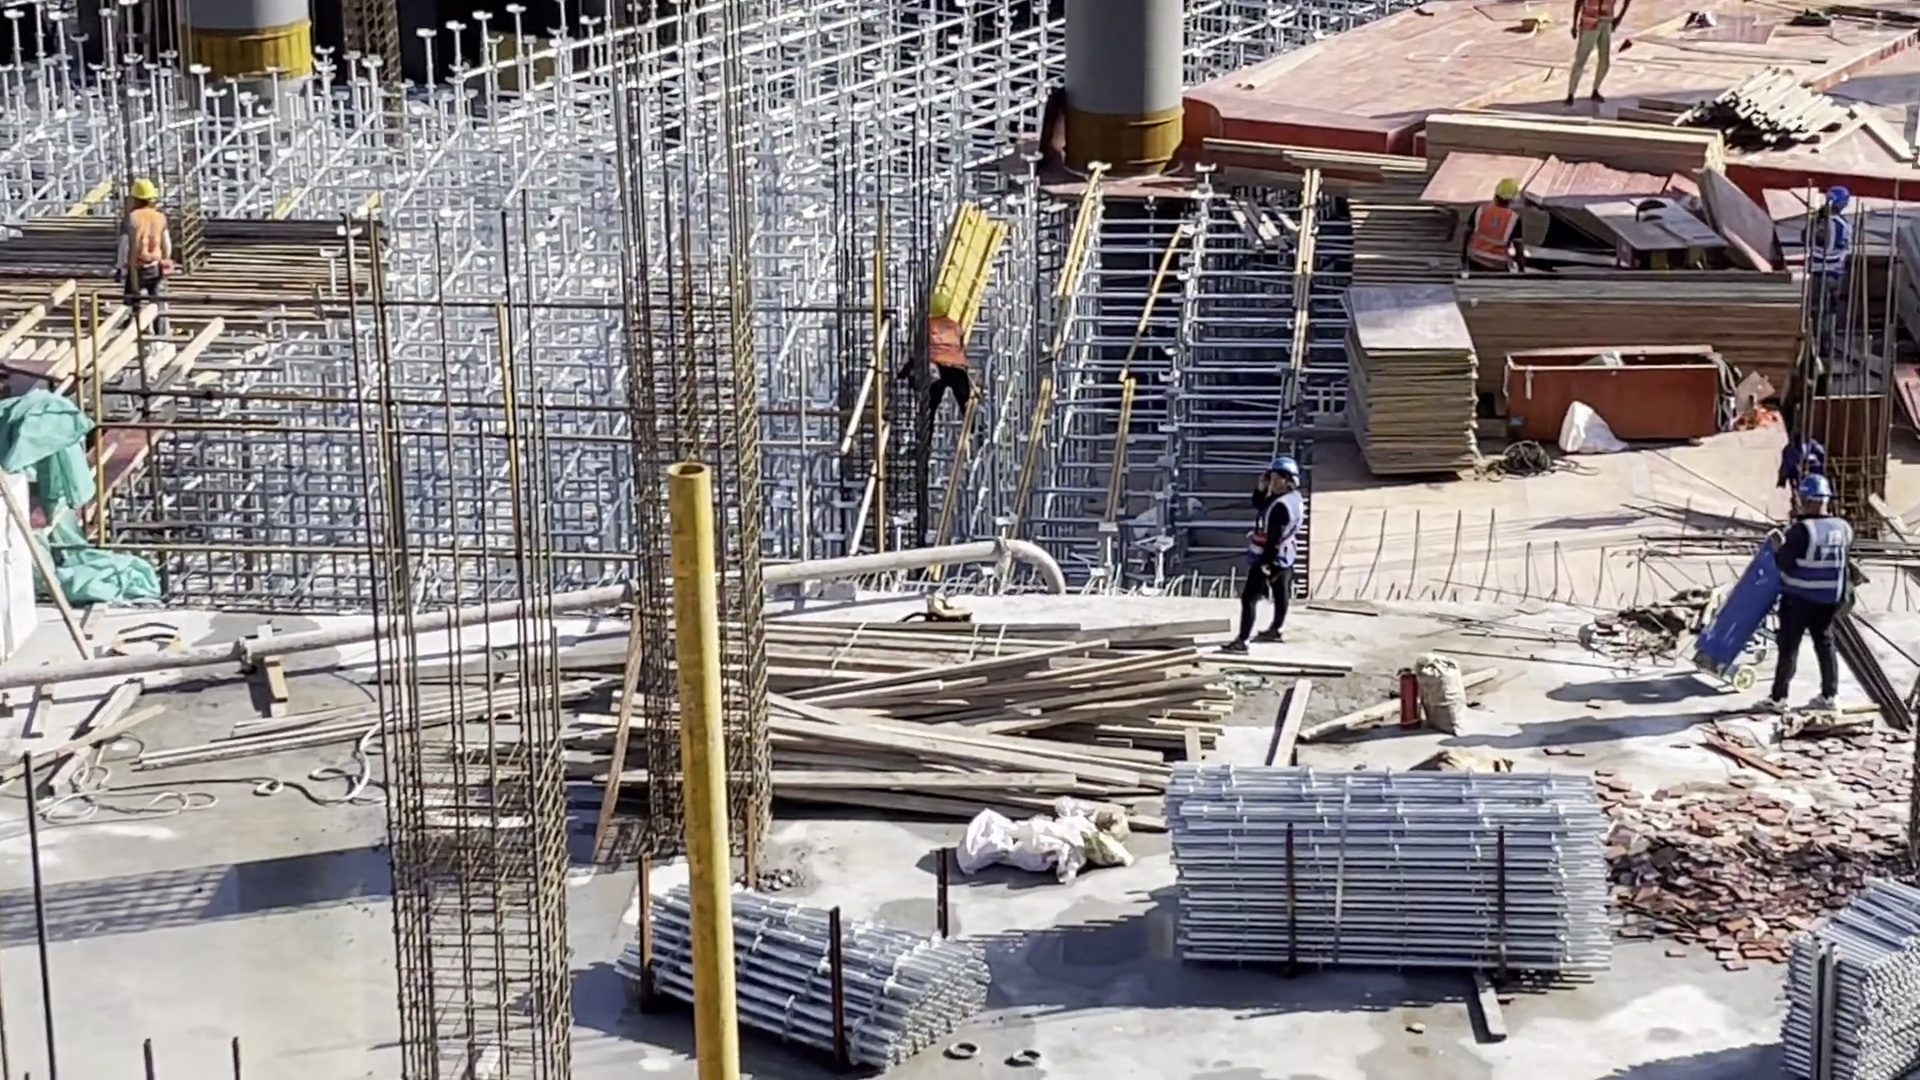helmet: (1794, 473, 1828, 503), (129, 180, 159, 206), (1821, 187, 1850, 213), (1272, 462, 1298, 487), (1498, 179, 1518, 203), (933, 298, 955, 316)
person: (1780, 474, 1855, 715), (1797, 183, 1859, 363), (1245, 460, 1304, 645), (114, 179, 178, 295), (919, 295, 977, 409), (1571, 4, 1632, 104), (1460, 175, 1522, 269)
vest: (1789, 519, 1847, 605), (1254, 491, 1299, 572), (1809, 213, 1850, 271), (126, 210, 165, 271), (1476, 203, 1514, 262), (922, 321, 967, 366), (1581, 2, 1614, 28)
